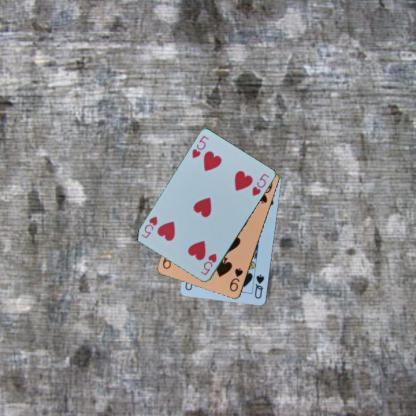5h: (190, 133, 210, 160), (198, 251, 218, 277)
9s: (227, 266, 244, 293)
Qs: (252, 272, 266, 300)
